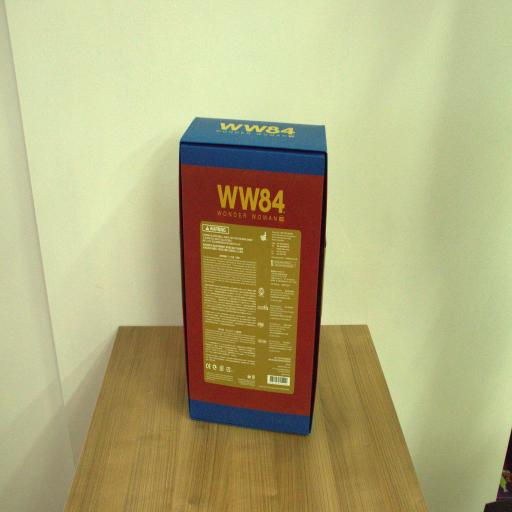WonderWoman: (176, 115, 328, 433)
